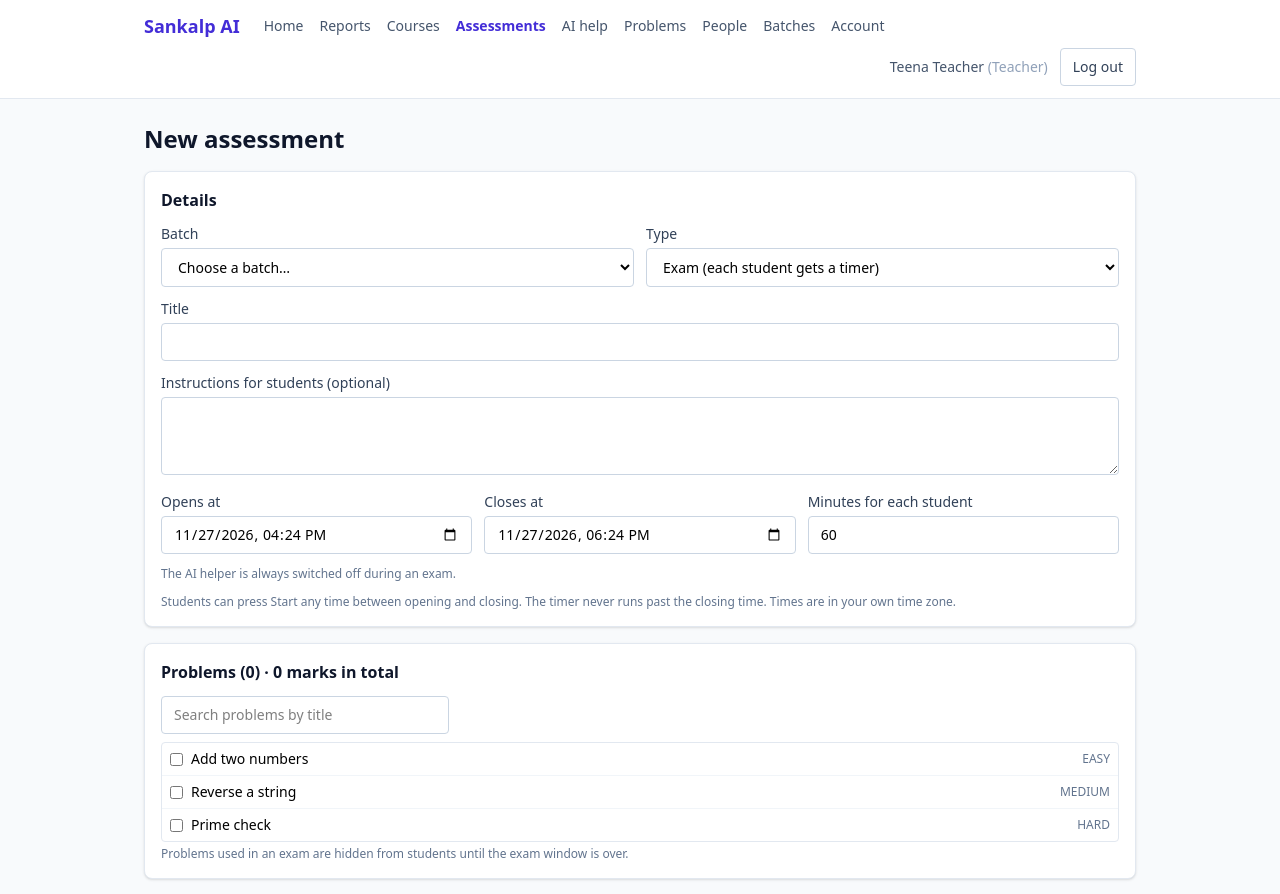
Test: assessment editor: creating › searches problems and can remove a pick
Expected: the checkbox named "Use Prime check" is shown, [170,818,183,832]
In the field labelled "Search problems": (305, 715) [161,696,449,734], type "rev"
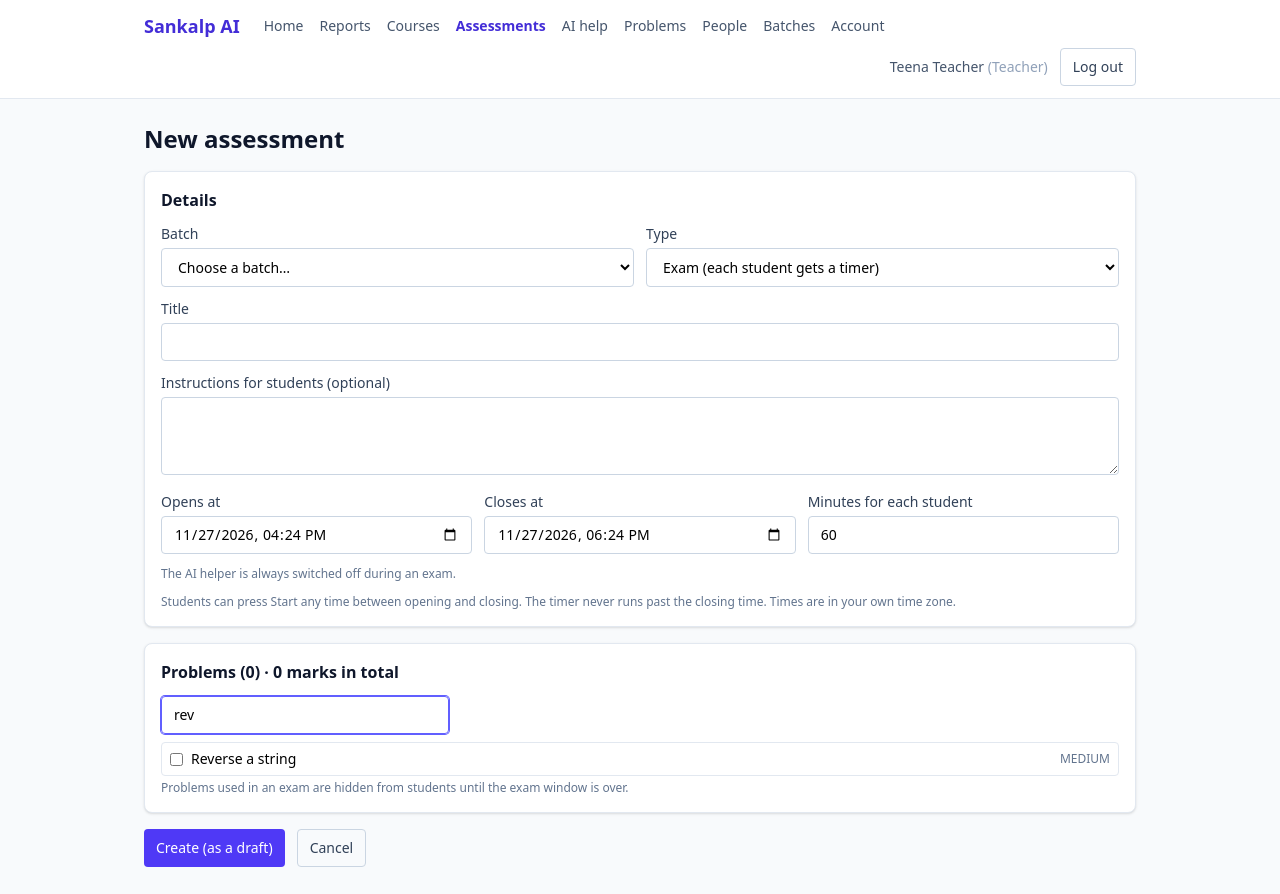
Click the checkbox named "Use Reverse a string": (176, 759) [170,752,183,766]
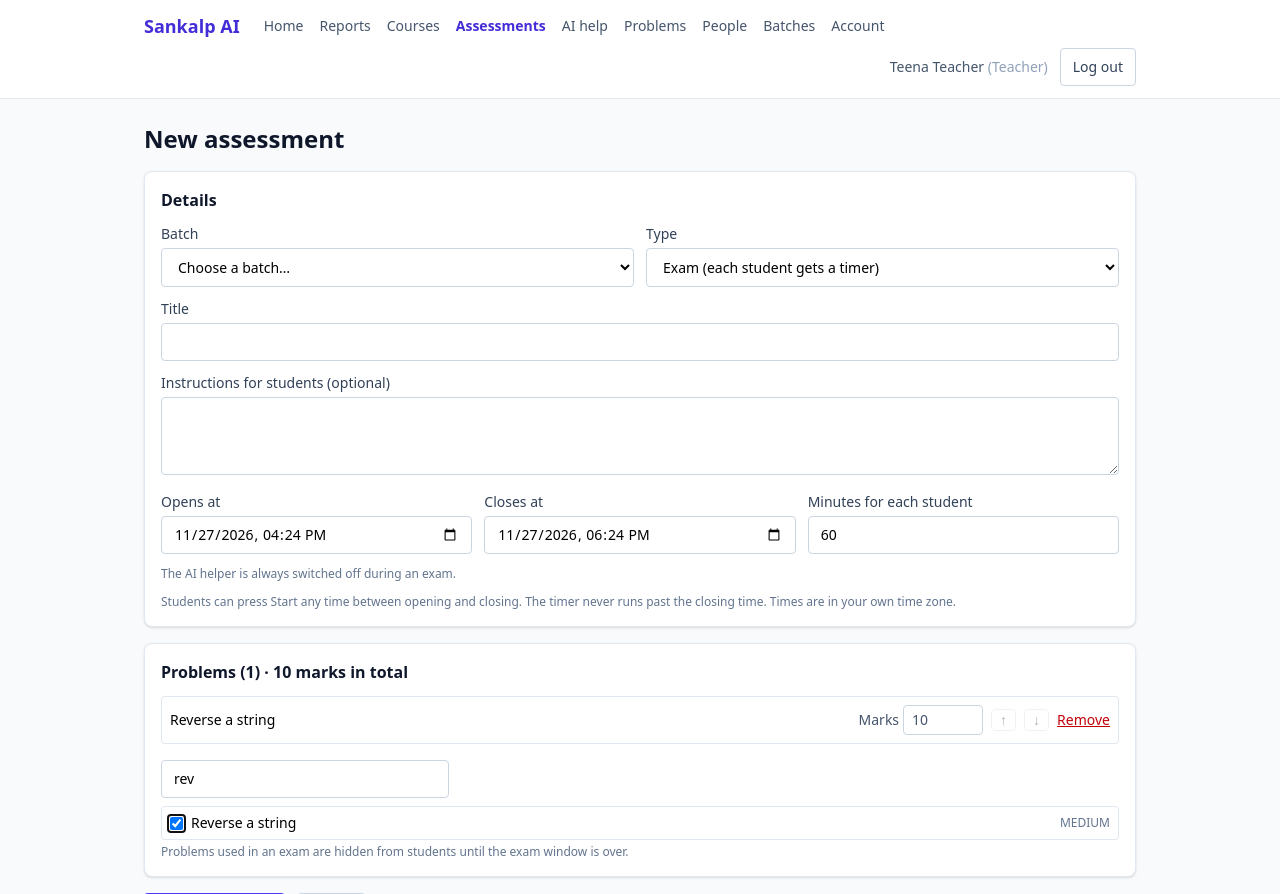
Expected: the heading "Problems (1) · 10 marks in total" is shown, [161,661,408,683]
Click the button with aria-label "Remove Reverse a string": (1084, 720) [1057,710,1110,730]
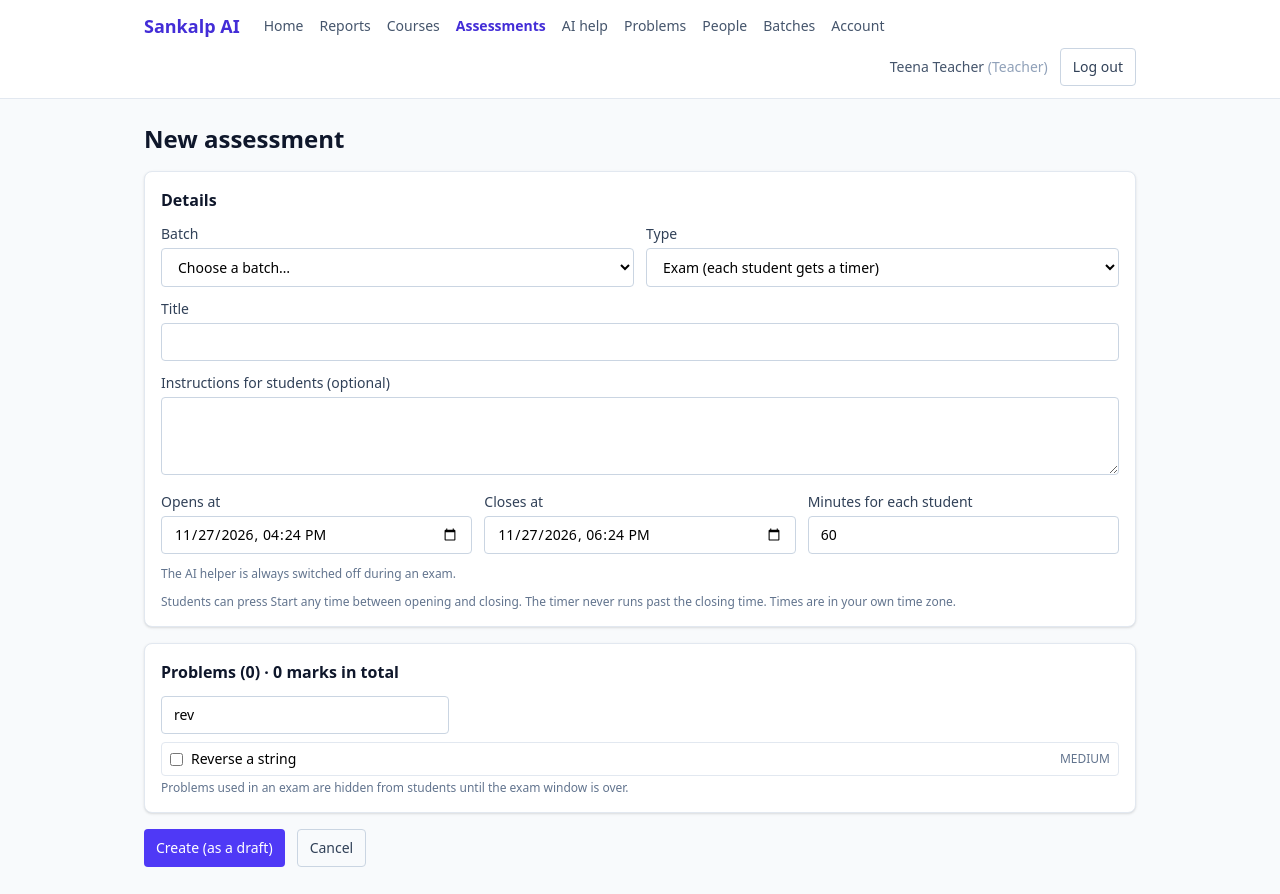
Expected: the heading "Problems (0) · 0 marks in total" is shown, [161,661,399,683]
